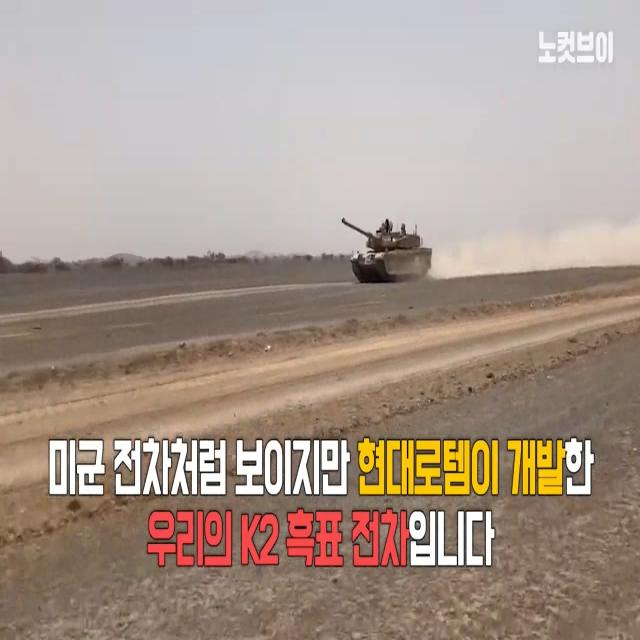korea tank: (340, 212, 432, 286)
